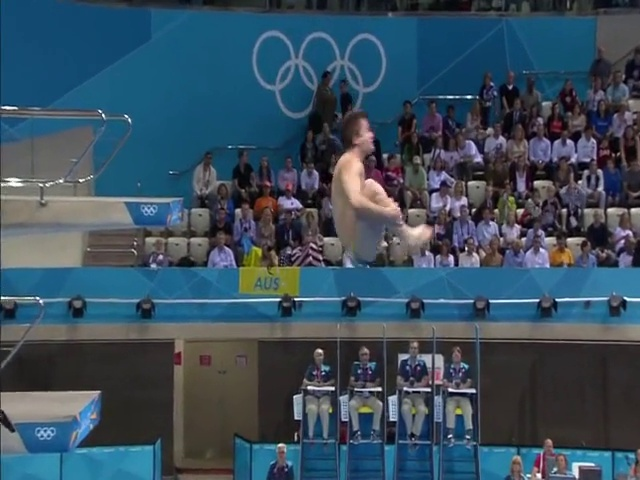diver: (331, 110, 433, 261)
